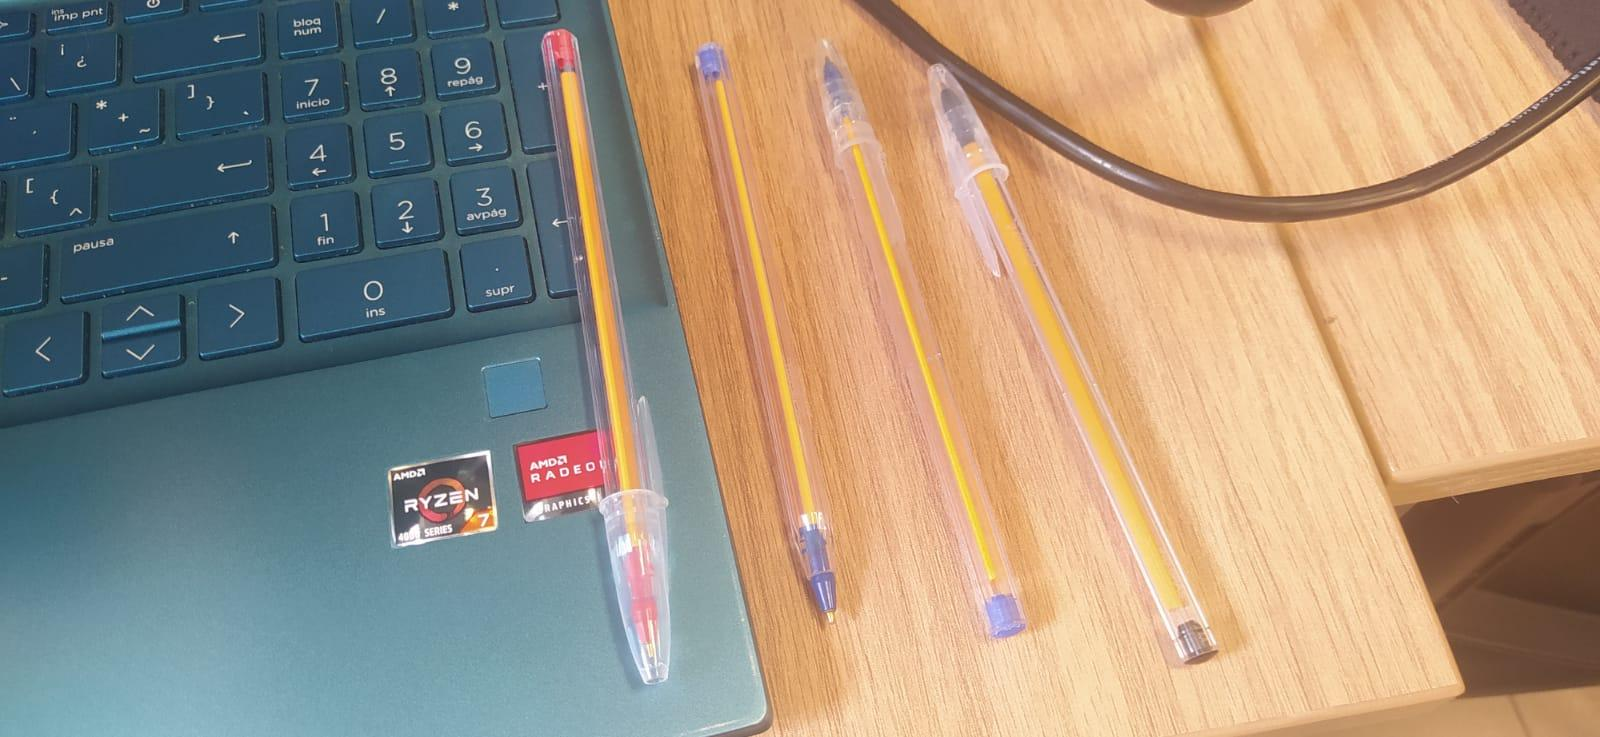pen: (924, 60, 1219, 667), (808, 39, 1027, 639), (540, 29, 672, 683), (693, 45, 840, 628)
